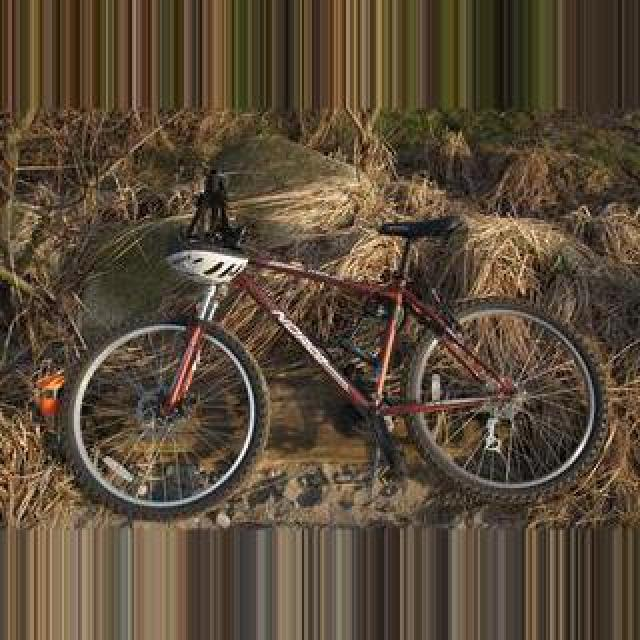Person: (65, 152, 609, 516)
